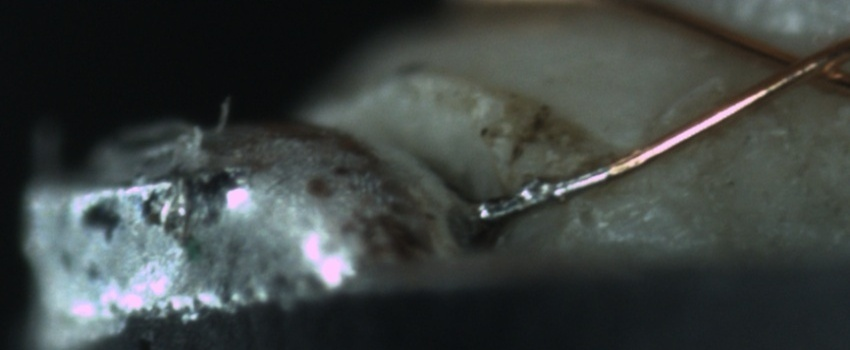CL: (754, 35, 844, 94)
TB: (520, 175, 566, 207)
TS: (470, 163, 609, 223)
TTCW: (466, 148, 628, 225)
